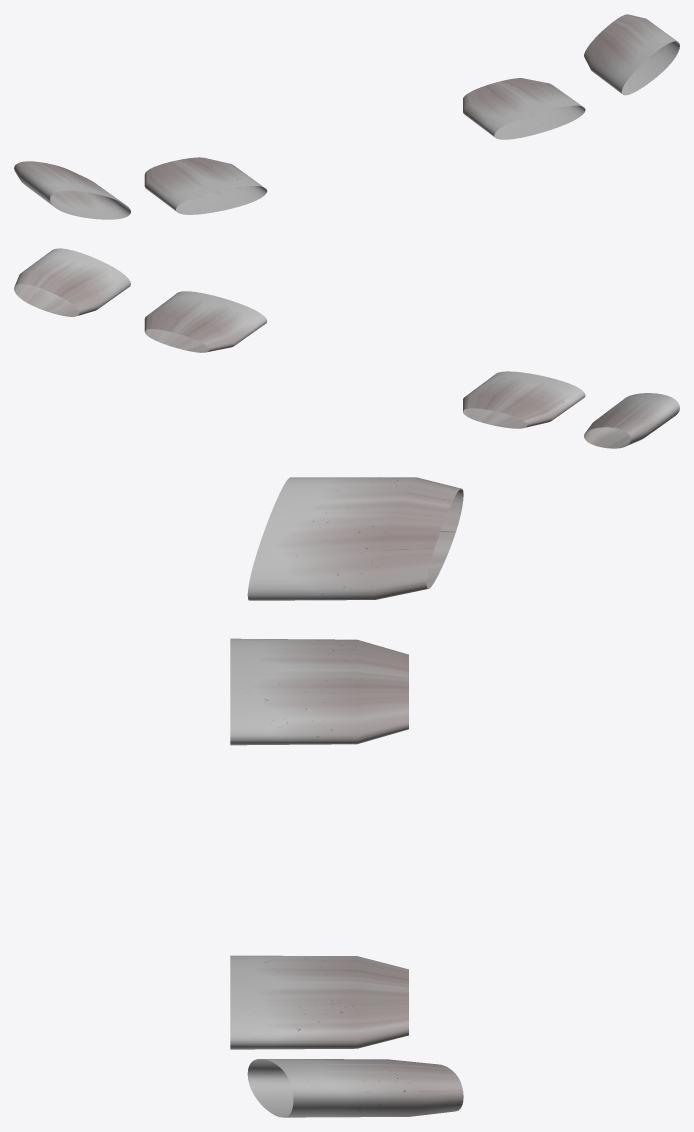
The model's file is Thruster Energy_Thruster_0.obj.
The picture shows the model from 3 angles, top to bottom: view 1: azimuth 30°, elevation 25°; view 2: azimuth 150°, elevation 25°; view 3: azimuth 270°, elevation 25°; orthographic projection. The views are drawn at different scales.
Parts seen in each view (by area): view 1: Thruster_Energy_Thruster_0; view 2: Thruster_Energy_Thruster_0; view 3: Thruster_Energy_Thruster_0.
Part boxes in pixels (bbox=[...]): Thruster_Energy_Thruster_0: bbox=[14, 14, 679, 219]; Thruster_Energy_Thruster_0: bbox=[14, 248, 679, 448]; Thruster_Energy_Thruster_0: bbox=[230, 477, 463, 1117].
Size of the model in its own units: 9.6 by 0.6624 by 1.54.
